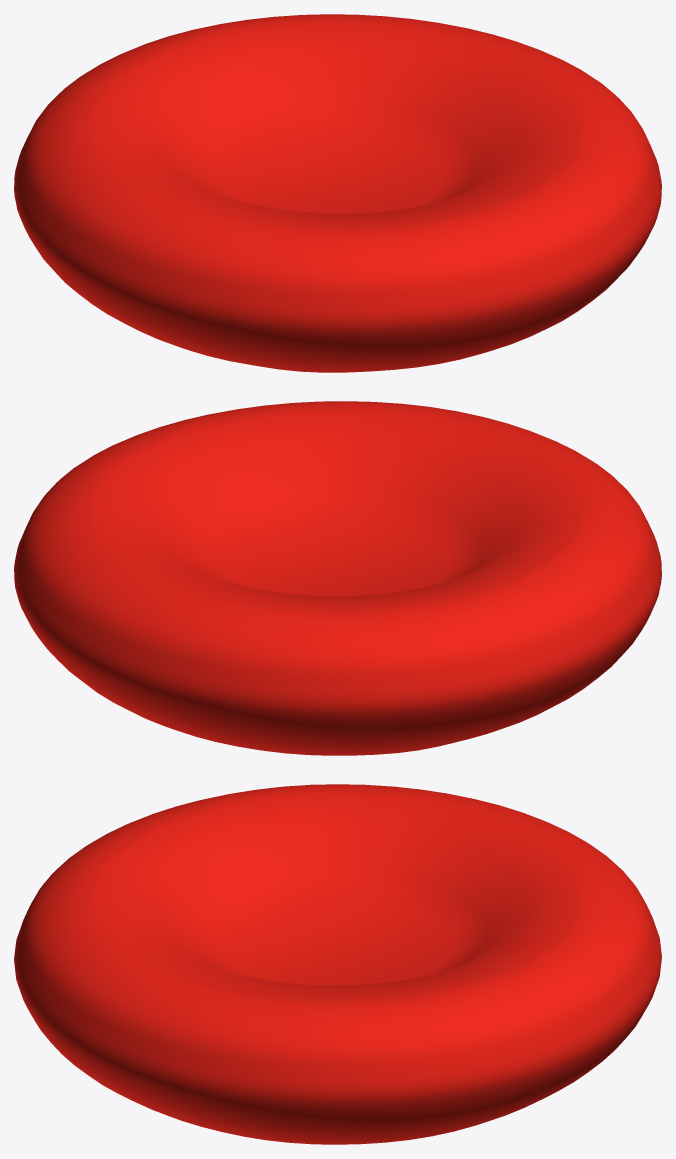
Rendered from BloodCell.glb.
The picture shows the model from 3 angles, top to bottom: view 1: azimuth 30°, elevation 25°; view 2: azimuth 150°, elevation 25°; view 3: azimuth 270°, elevation 25°; orthographic projection.
Parts seen in each view (by area): view 1: Red_Blood_Cell; view 2: Red_Blood_Cell; view 3: Red_Blood_Cell.
Part boxes in pixels (bbox=[...]): Red_Blood_Cell: bbox=[14, 14, 661, 372]; Red_Blood_Cell: bbox=[14, 401, 661, 755]; Red_Blood_Cell: bbox=[14, 784, 661, 1144].
Bounding box in the file's own units: 2.1 × 0.5702 × 2.1.
